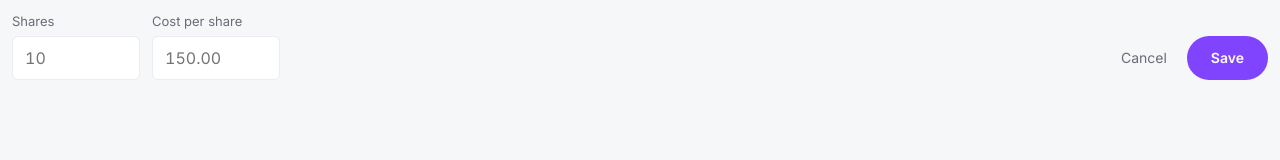
HoldingsForm › refuses to submit with only one field filled, since the backend needs both
In the number field labelled "Shares": coordinates (76, 58) 12,36 -> 140,80, type "12"
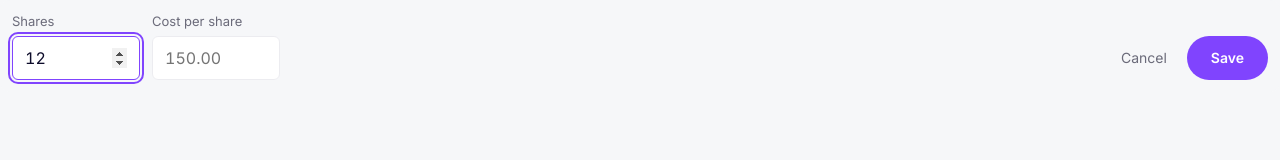
Click the button "Save": coordinates (1227, 58) 1187,36 -> 1268,80
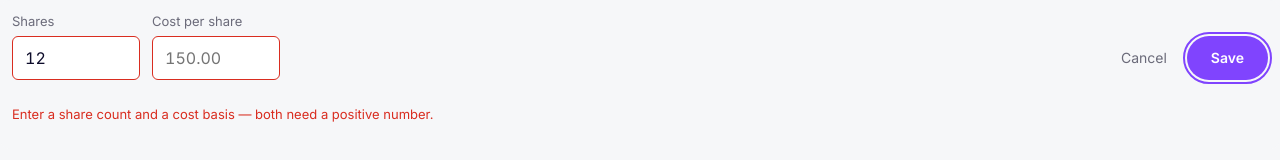
Now the message shows "both need a positive number", box 12,106 -> 433,122
